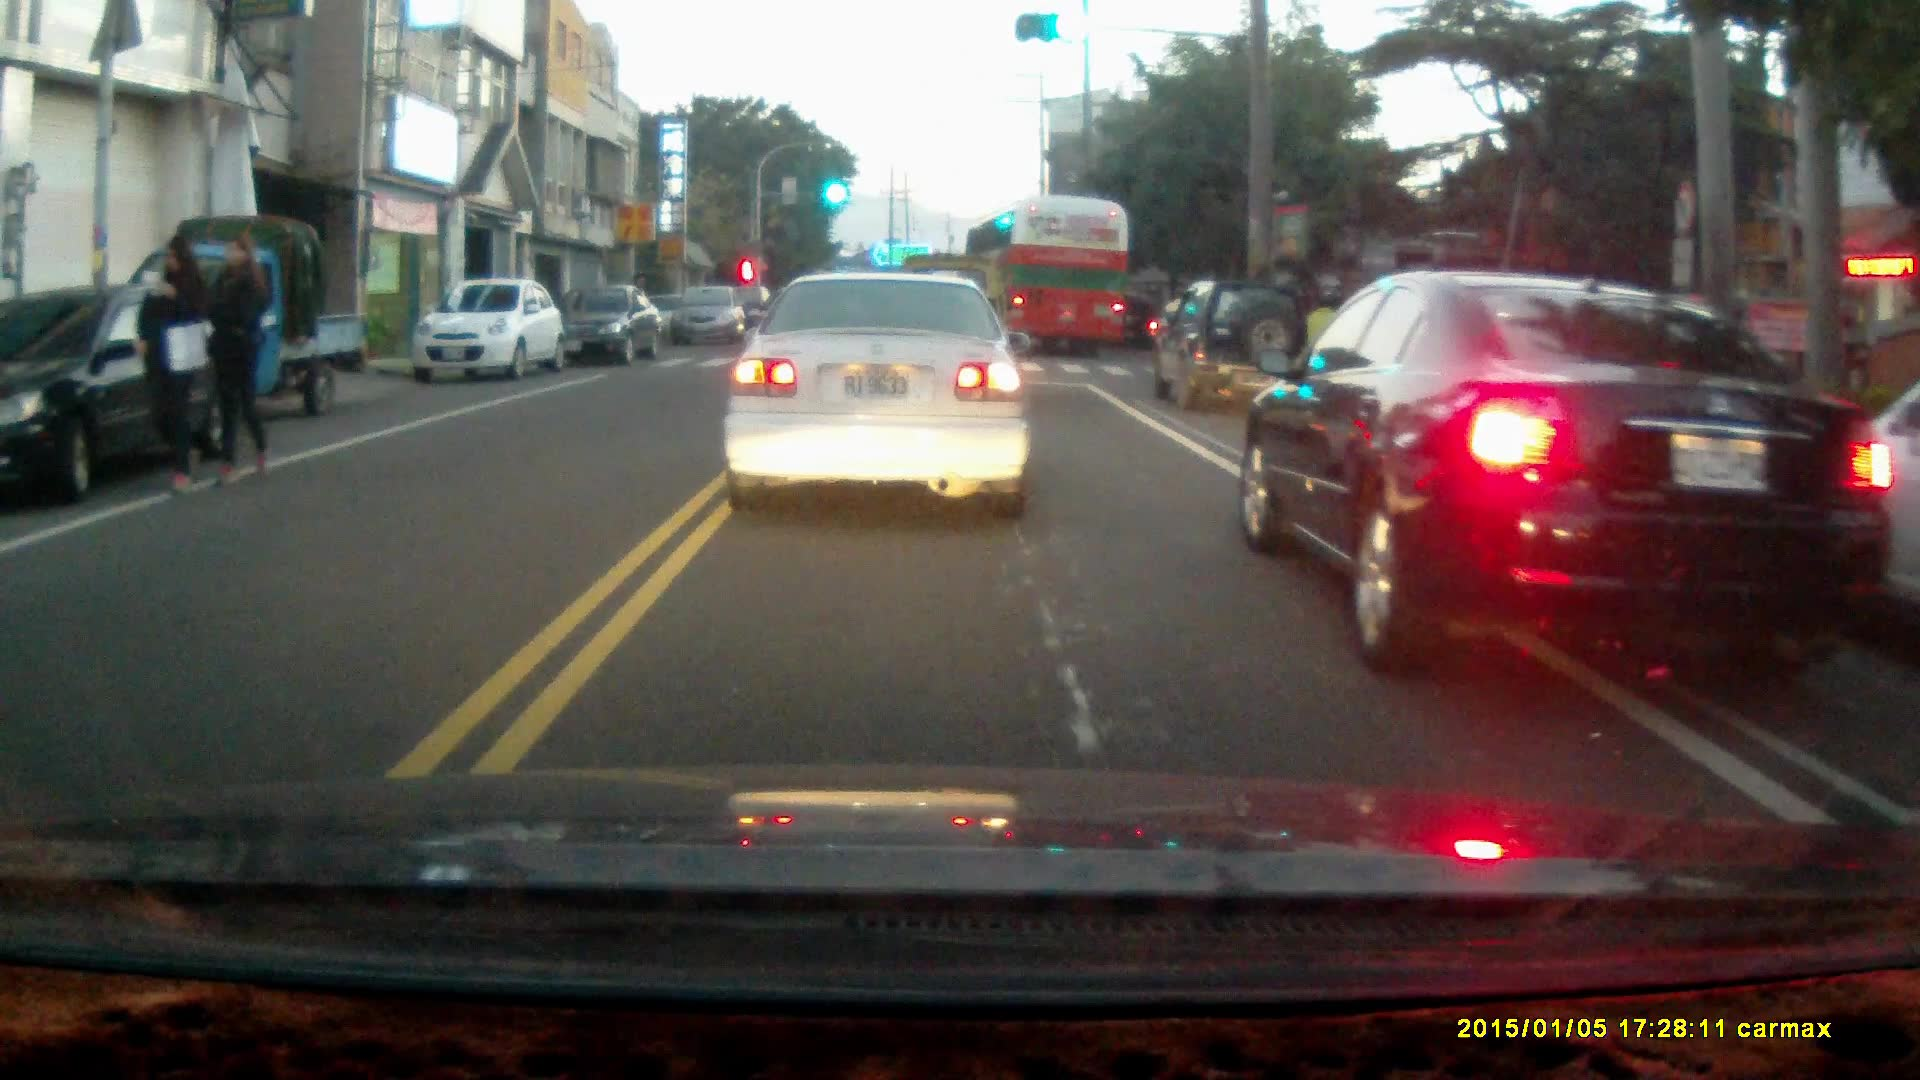pedestrian: (133, 233, 210, 493), (205, 231, 270, 483)
rider: (1117, 291, 1159, 353)
vehicle: (1239, 272, 1886, 668), (721, 266, 1031, 520), (1, 280, 260, 506), (124, 213, 372, 418), (1760, 373, 1920, 624), (963, 197, 1129, 359), (1156, 277, 1311, 412), (412, 279, 566, 383), (553, 279, 666, 369), (668, 286, 751, 350)
